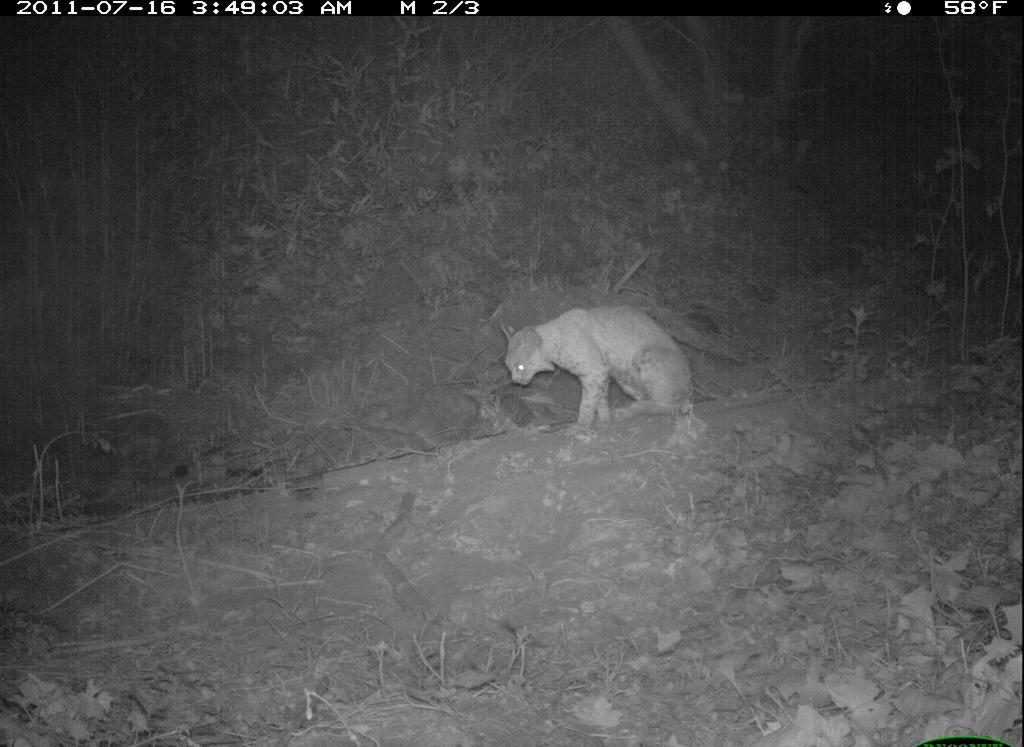bobcat: (478, 291, 738, 460)
